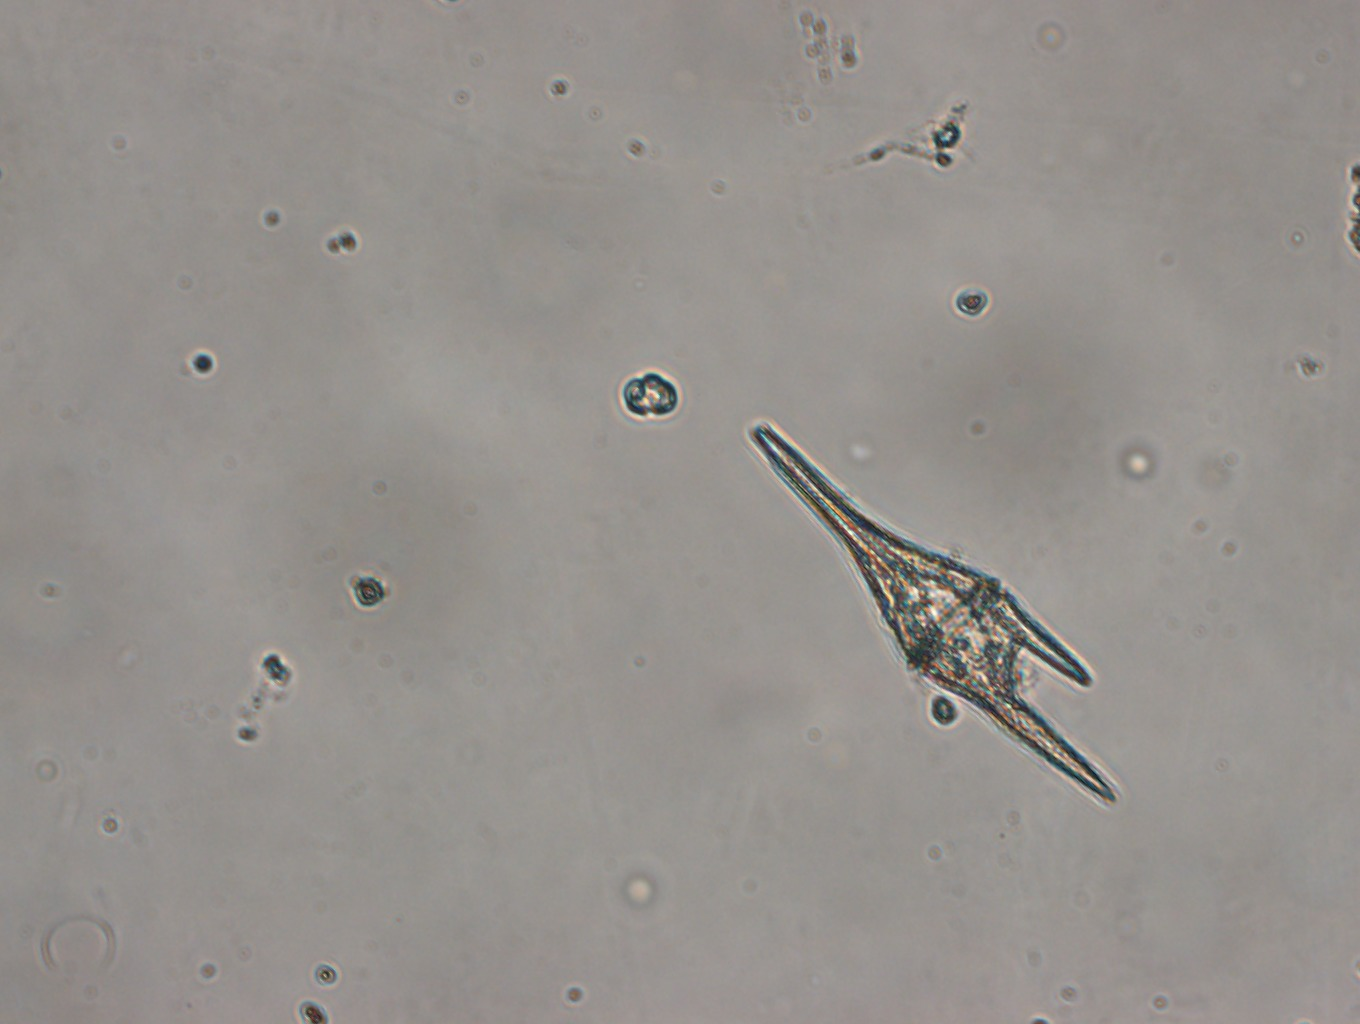ceratium furca: (741, 414, 1122, 806)
